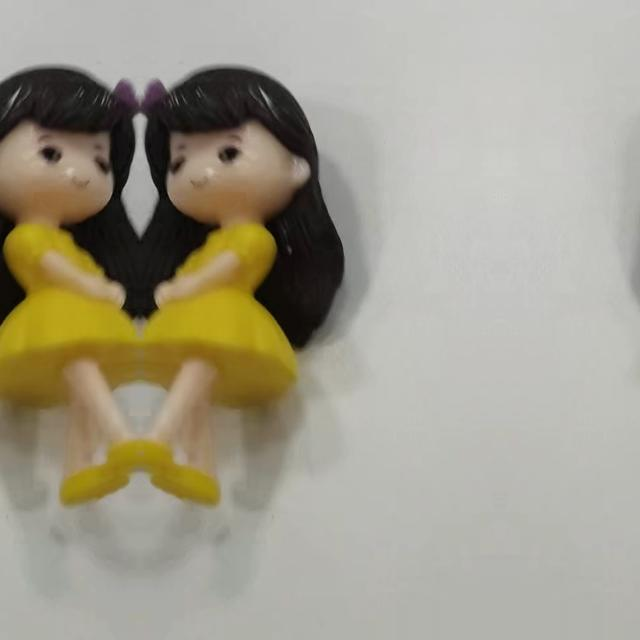woman dress: (140, 227, 312, 496), (0, 226, 140, 495)
woman head: (142, 51, 344, 233), (0, 51, 138, 233)
